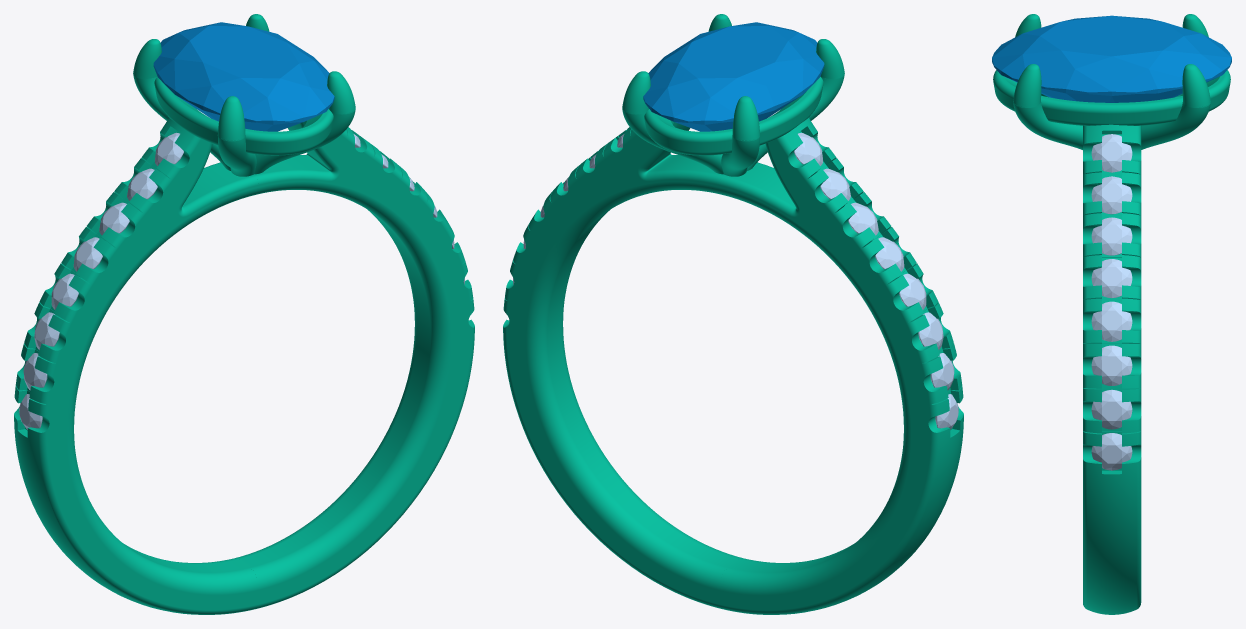
3 views of the same model, side by side, from view 1: azimuth 30°, elevation 25°; view 2: azimuth 150°, elevation 25°; view 3: azimuth 270°, elevation 25° (orthographic).
Parts seen in each view (by area): view 1: VR435 23-5-25(render).3dm, Diamond_Oval, Bezel, Diamond_Round (×5); view 2: VR435 23-5-25(render).3dm, Diamond_Oval, Bezel, Diamond_Round (×5); view 3: VR435 23-5-25(render).3dm, Diamond_Oval, Diamond_Round (×8), Bezel.
Boxes of the visible parts, bbox=[...] form: VR435 23-5-25(render).3dm: bbox=[14, 14, 474, 614]; Diamond_Oval: bbox=[153, 22, 334, 131]; Bezel: bbox=[154, 77, 333, 155]; Diamond_Round (×5): bbox=[51, 132, 183, 309]; VR435 23-5-25(render).3dm: bbox=[503, 14, 963, 614]; Diamond_Oval: bbox=[643, 22, 824, 131]; Bezel: bbox=[644, 77, 823, 155]; Diamond_Round (×5): bbox=[794, 132, 926, 309]; VR435 23-5-25(render).3dm: bbox=[1013, 14, 1210, 614]; Diamond_Oval: bbox=[992, 15, 1231, 102]; Diamond_Round (×8): bbox=[1091, 134, 1132, 470]; Bezel: bbox=[993, 70, 1230, 125].
Size of the model in its own units: 2.47 by 2.93 by 1.15.
